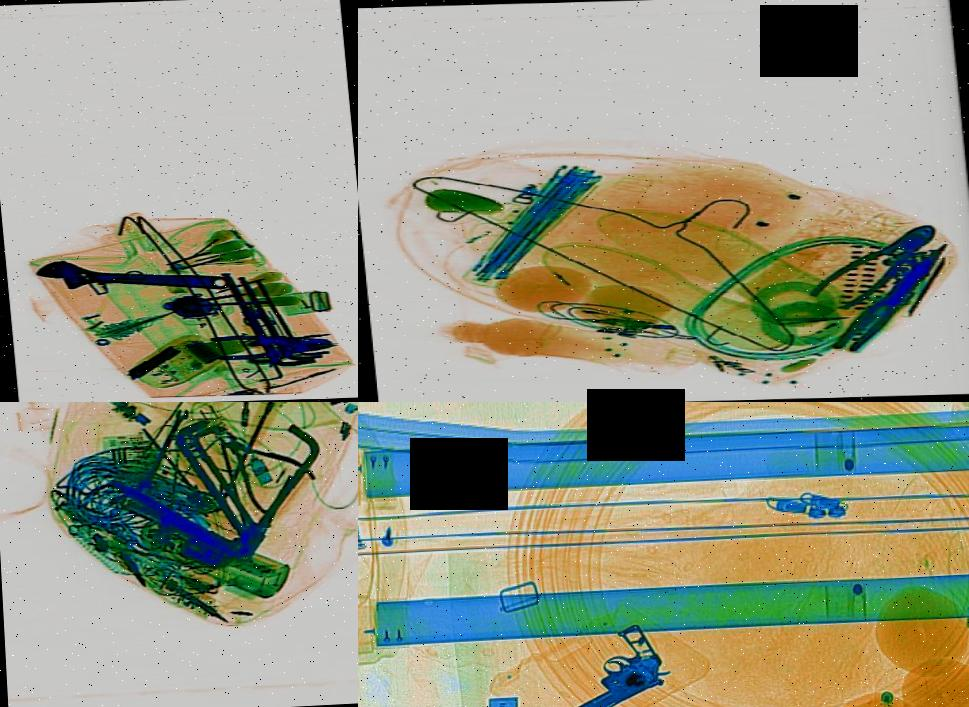Gun: (497, 620, 703, 707)
Pliers: (816, 238, 969, 356), (800, 214, 961, 313), (201, 402, 321, 528), (212, 328, 333, 360)
Wrench: (36, 251, 231, 302), (137, 403, 196, 483)
